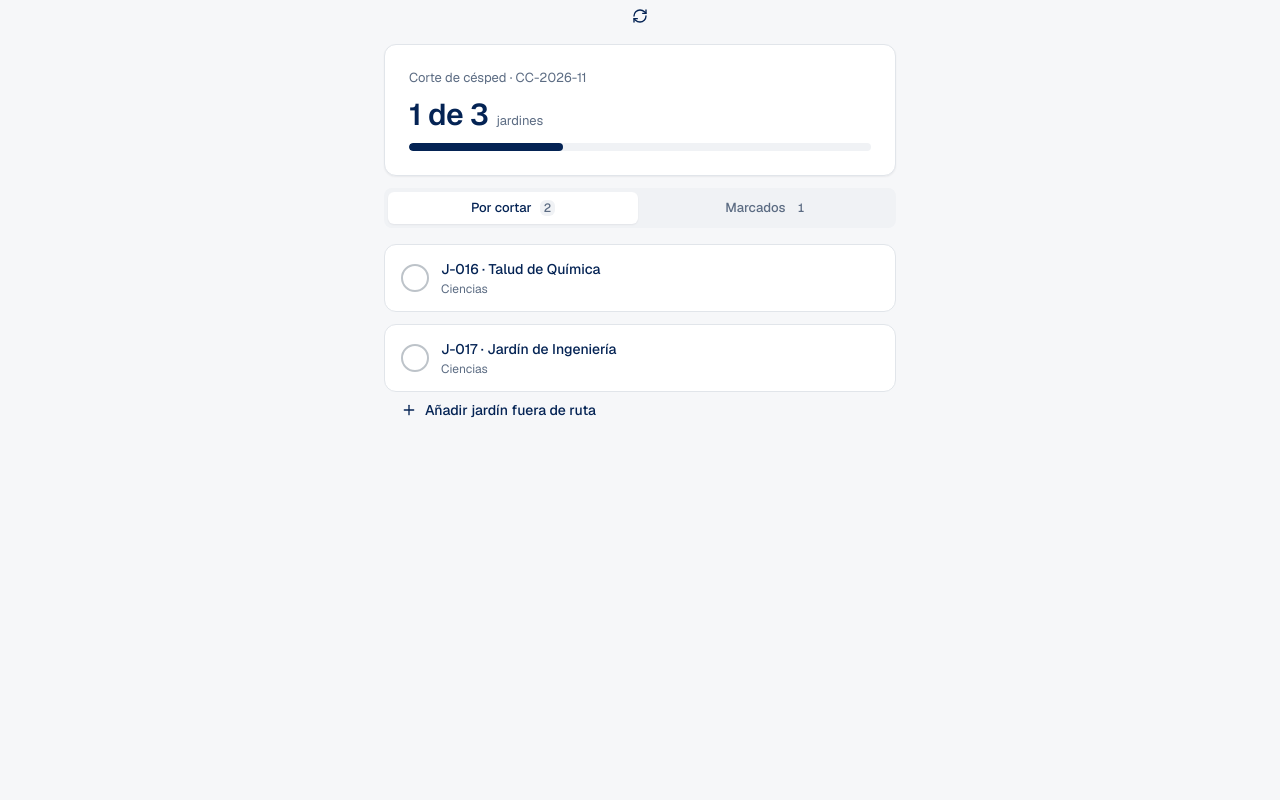
Scenario: RutaDeHoyPage › si otro ya lo marcó (409 ya-marcado), trae quién y cuándo y abre la hoja
This screenshot has width=1280, height=800.
Expected: the text "1 de 3" is shown, [409,97,488,133]
Click the button named "J-017 · Jardín de Ingeniería, pendiente" at (640, 358), box [384,324,896,392]
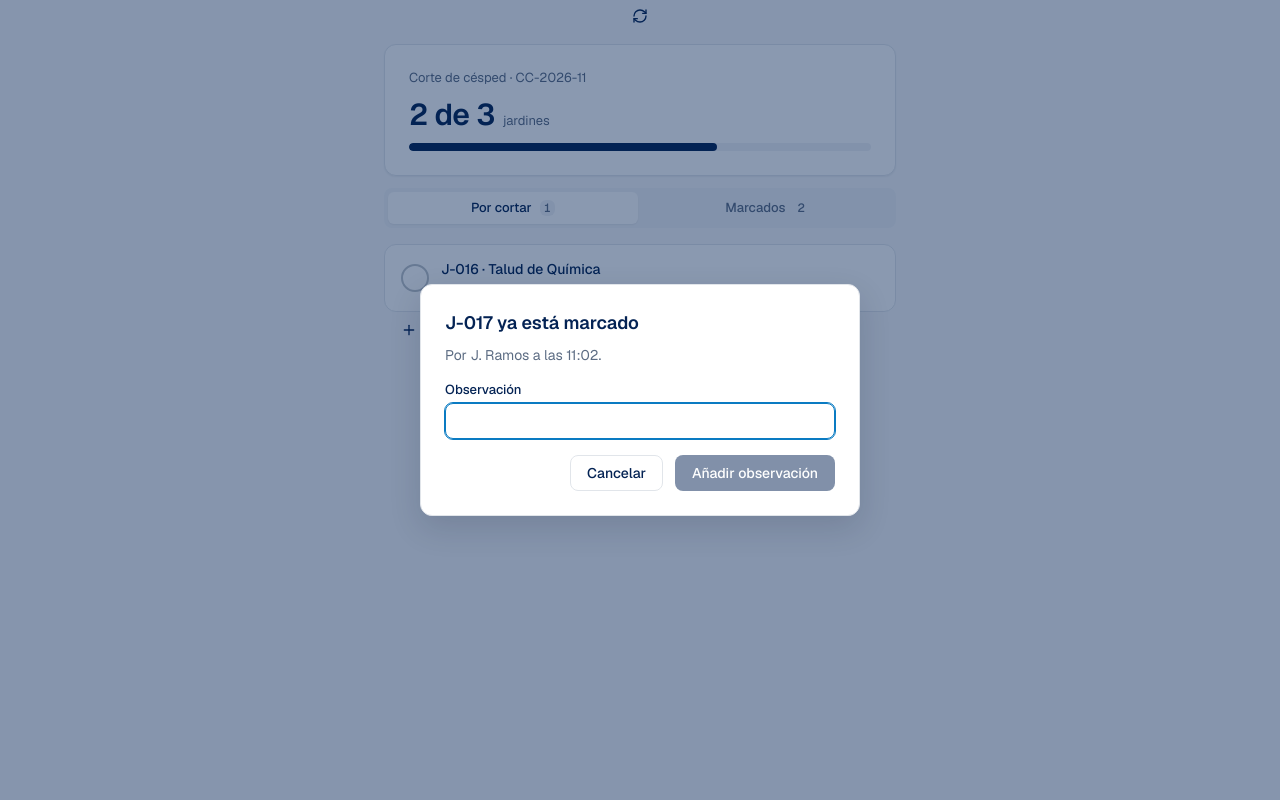
Expected: the dialog "J-017 ya está marcado" is shown, [420,284,860,516]
Expected: the text "Por J. Ramos a las 11:02." is shown, [445,346,601,364]
